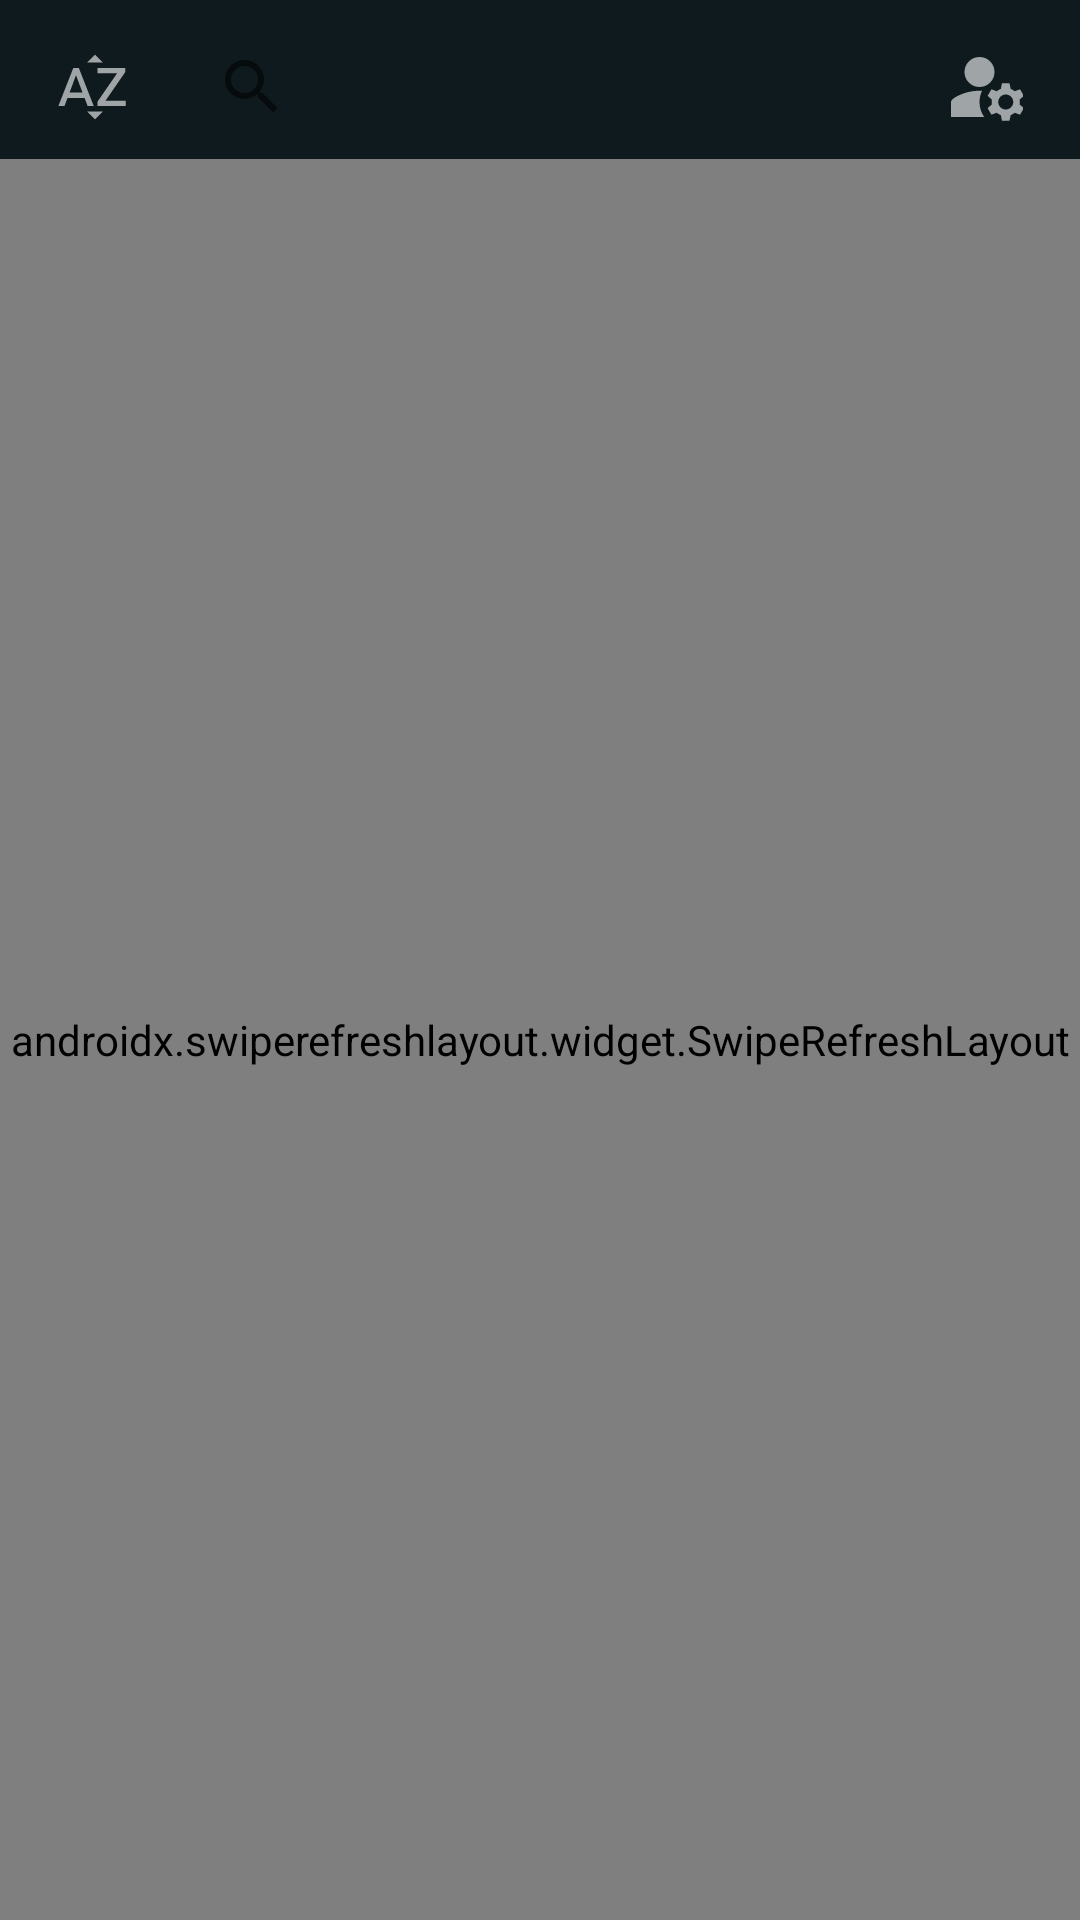

Point at icon controls on the screen. Image size 1080 × 1920, points as (x,y).
account settings: (987,89)
sort az: (92,87)
